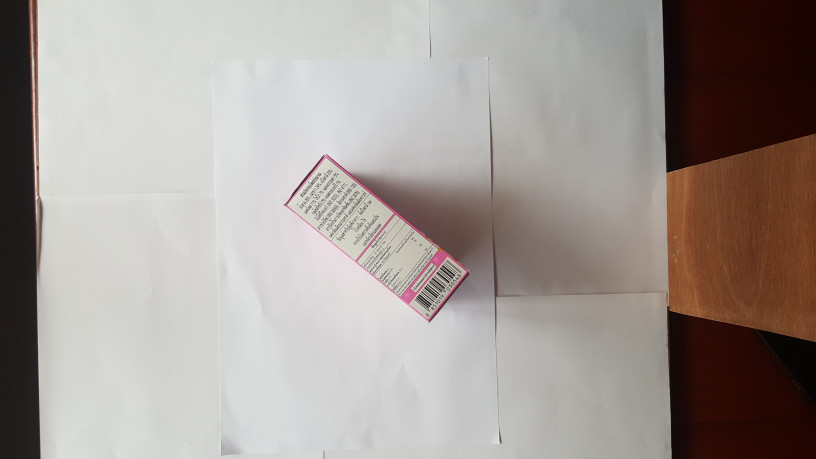collon-strawberry: (285, 151, 470, 325)
